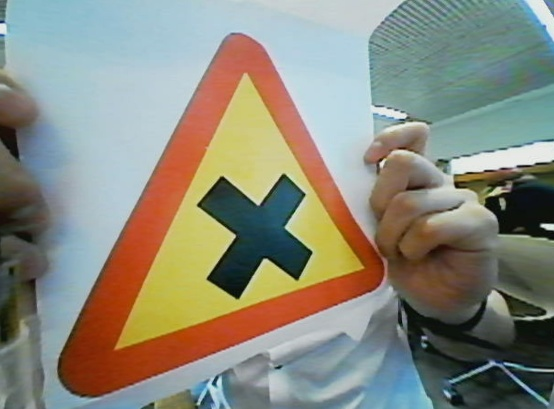junction: (62, 28, 390, 406)
